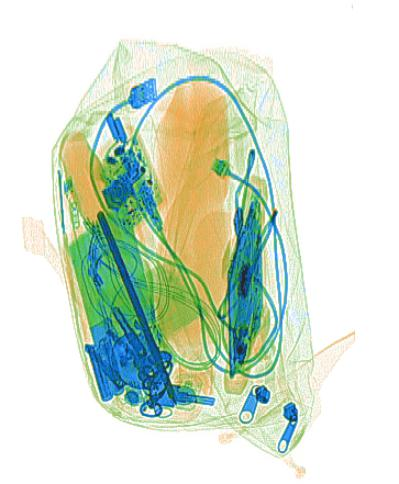battery: (85, 332, 129, 401)
